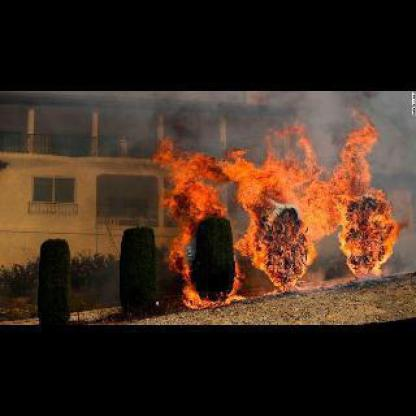fire: (220, 139, 326, 295), (156, 136, 238, 314), (322, 105, 400, 288)
